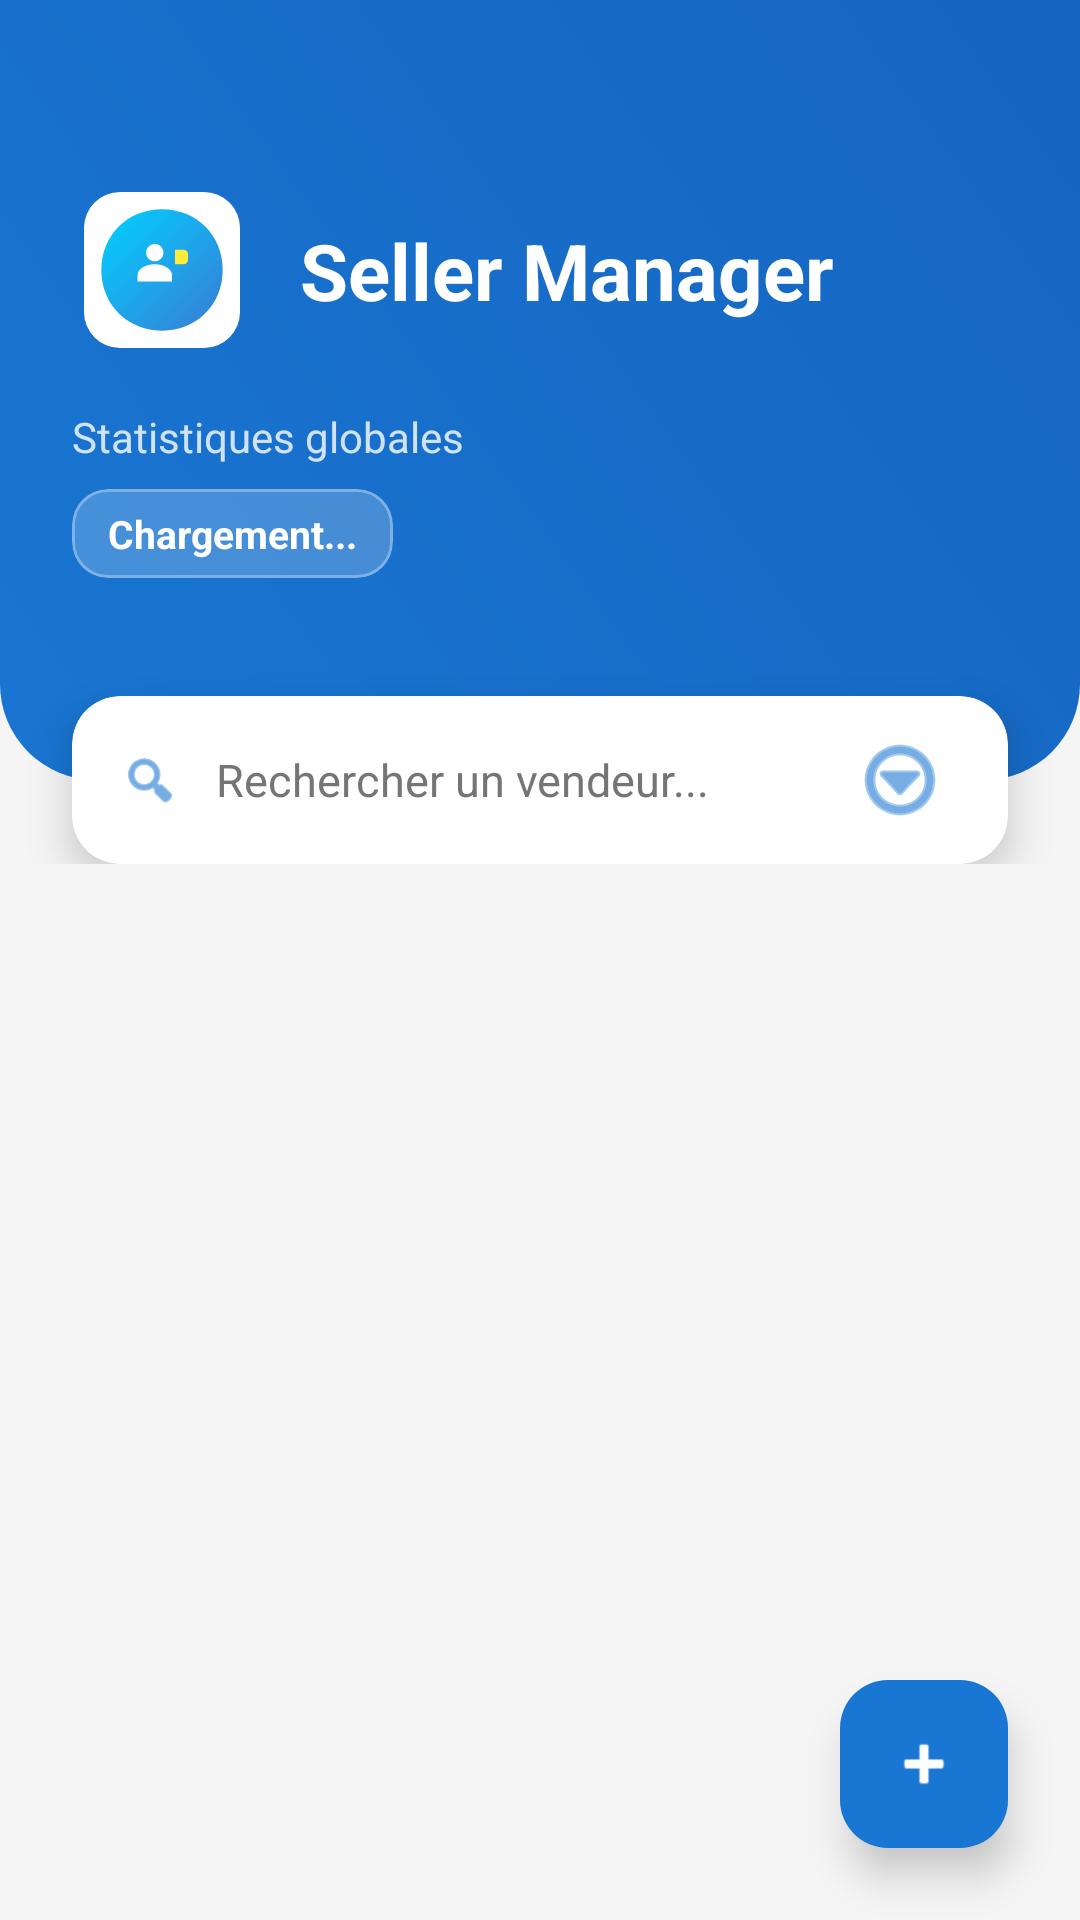

Where to tap for icons on this 1080px x 1920px app screen, as [x,y]:
add: [924,1764]
search: [150,780]
Trier: [900,780]
